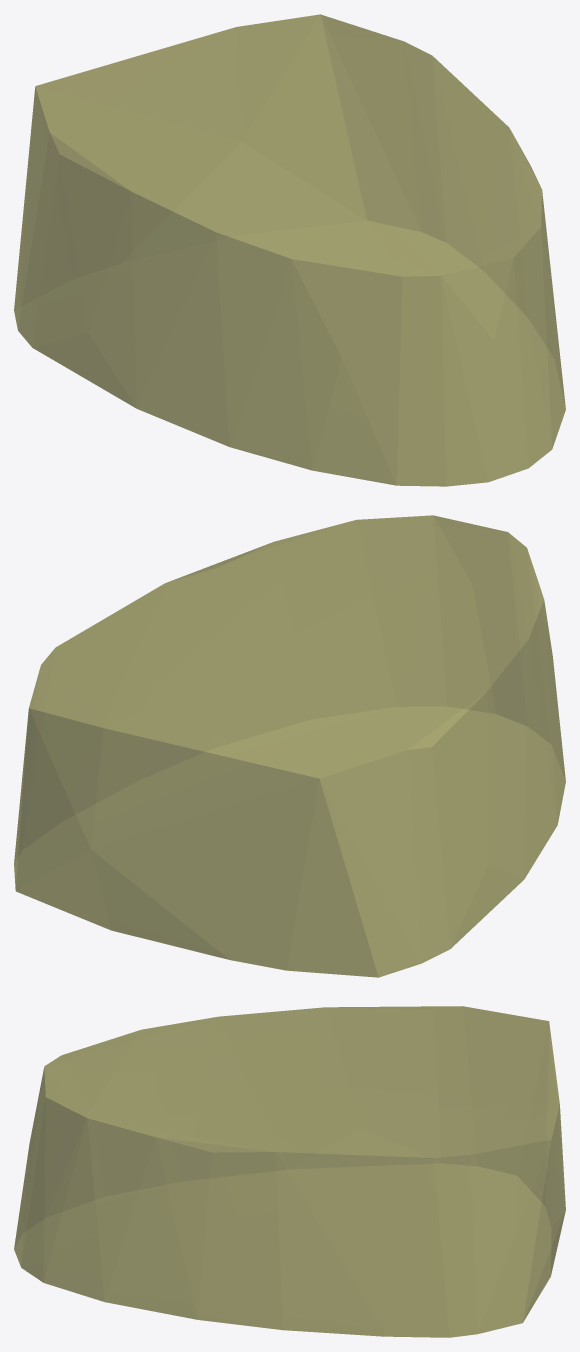
3 renders of one model, top to bottom at view 1: azimuth 30°, elevation 25°; view 2: azimuth 150°, elevation 25°; view 3: azimuth 270°, elevation 25°, orthographic. The views are drawn at different scales.
Visible parts, largest first — view 1: Shape_IndexedFaceSet.006_Shape_IndexedFaceSet.17984; view 2: Shape_IndexedFaceSet.006_Shape_IndexedFaceSet.17984; view 3: Shape_IndexedFaceSet.006_Shape_IndexedFaceSet.17984.
Part boxes in pixels (left/top/right/bottom): Shape_IndexedFaceSet.006_Shape_IndexedFaceSet.17984: left=14, top=14, right=565, bottom=486; Shape_IndexedFaceSet.006_Shape_IndexedFaceSet.17984: left=14, top=515, right=565, bottom=977; Shape_IndexedFaceSet.006_Shape_IndexedFaceSet.17984: left=14, top=1006, right=565, bottom=1337.
Bounding box in the file's own units: 0.417 × 0.1951 × 0.559.
